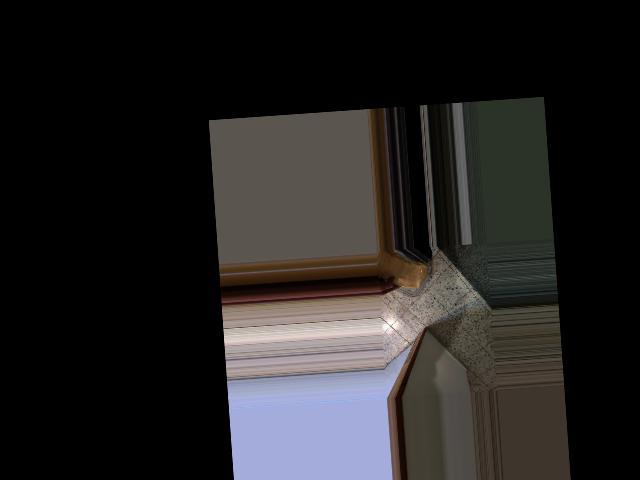cheese: (375, 246, 433, 298)
